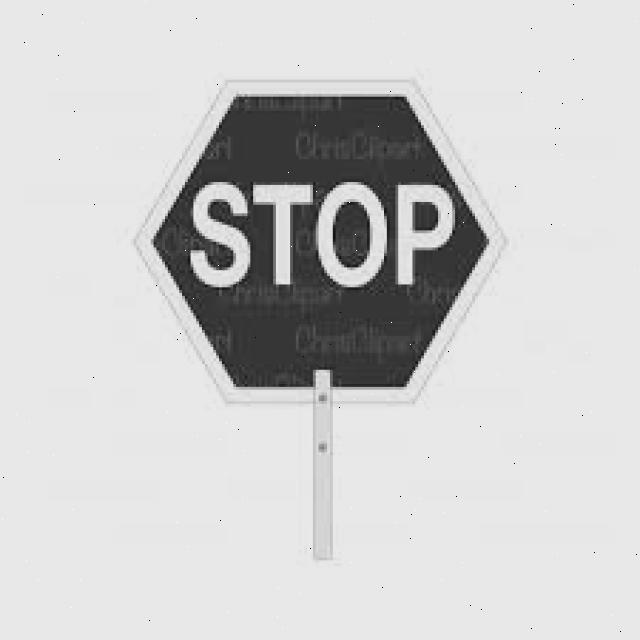stop sign: (140, 74, 498, 399)
